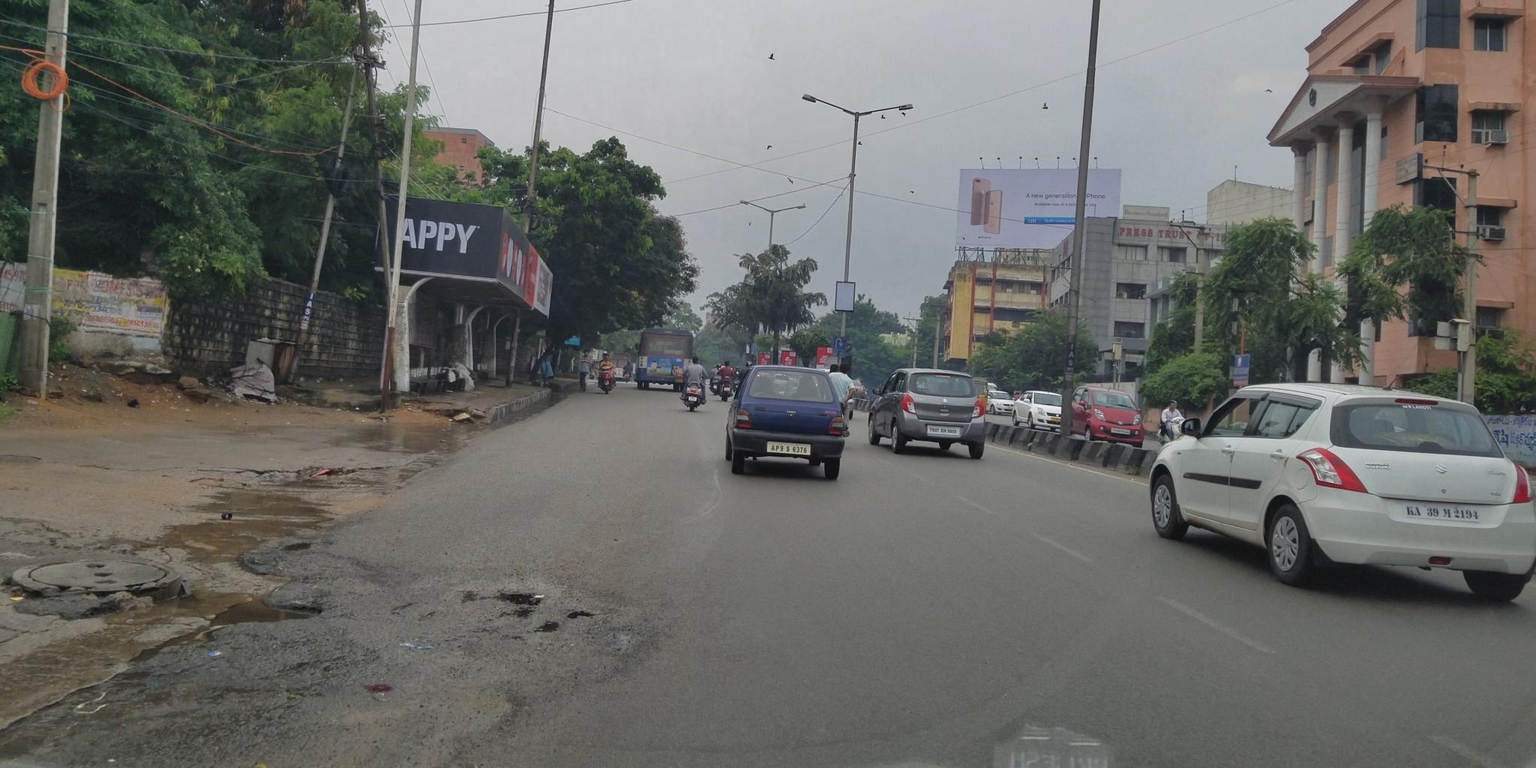streetlight: (860, 85, 925, 141), (794, 84, 859, 140), (716, 178, 766, 224), (764, 180, 814, 225)
